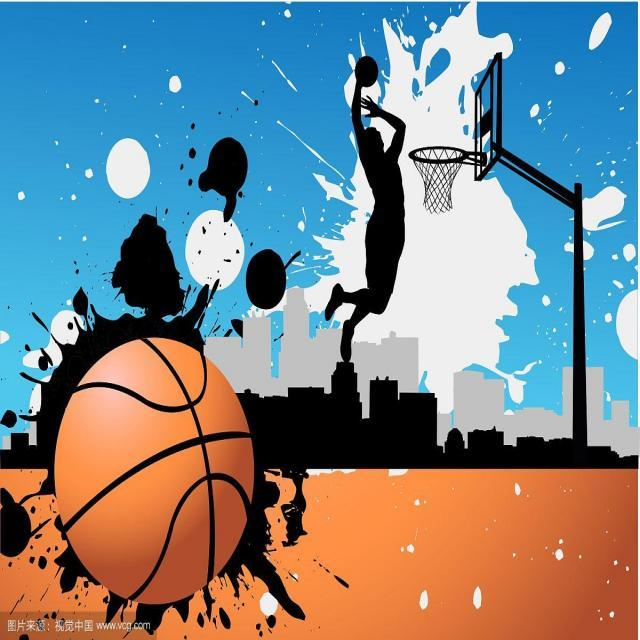rim: (52, 340, 254, 592)
